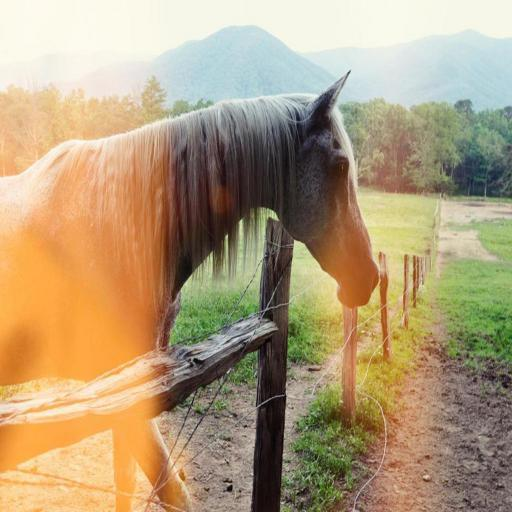horse: (0, 70, 381, 512)
